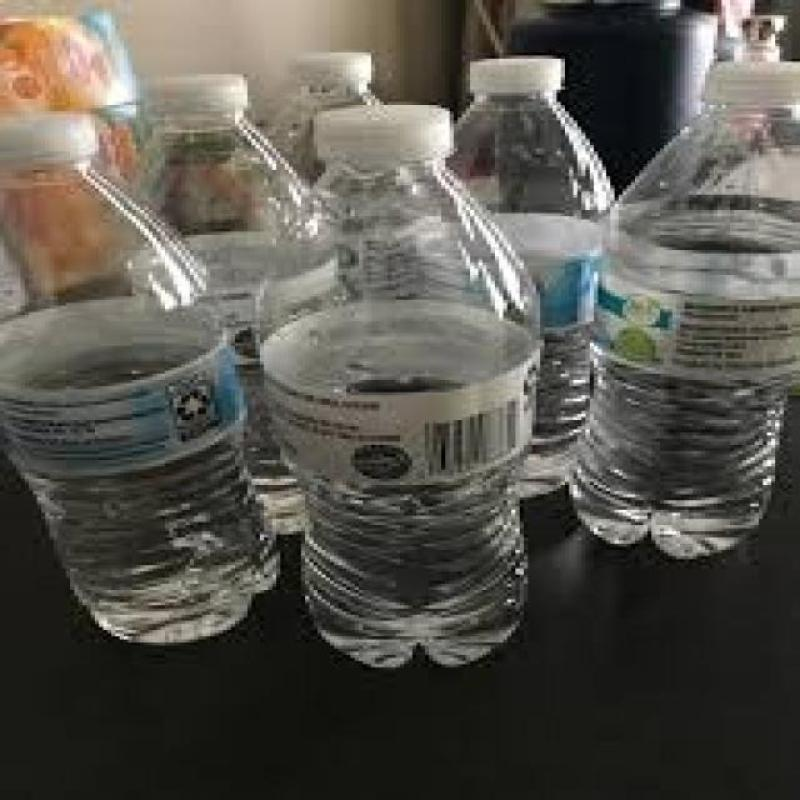botella: (249, 103, 547, 668), (0, 112, 251, 650), (572, 56, 800, 564), (110, 78, 316, 538), (444, 58, 616, 497), (260, 50, 388, 185)
